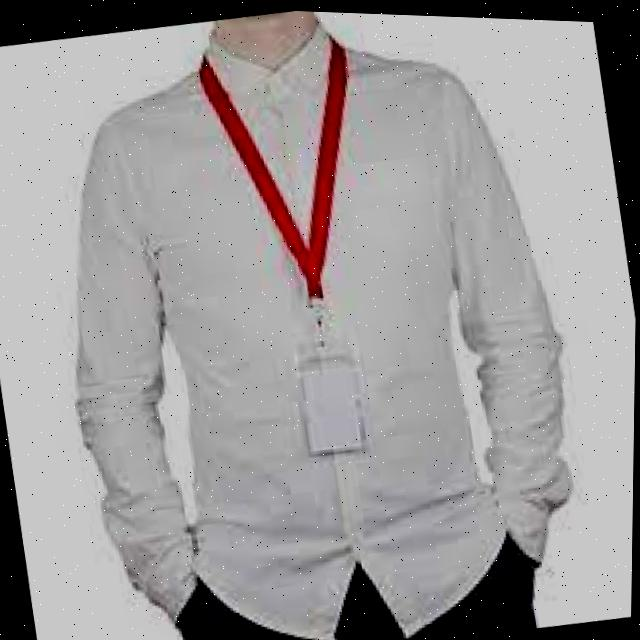id_card: (195, 56, 410, 470)
